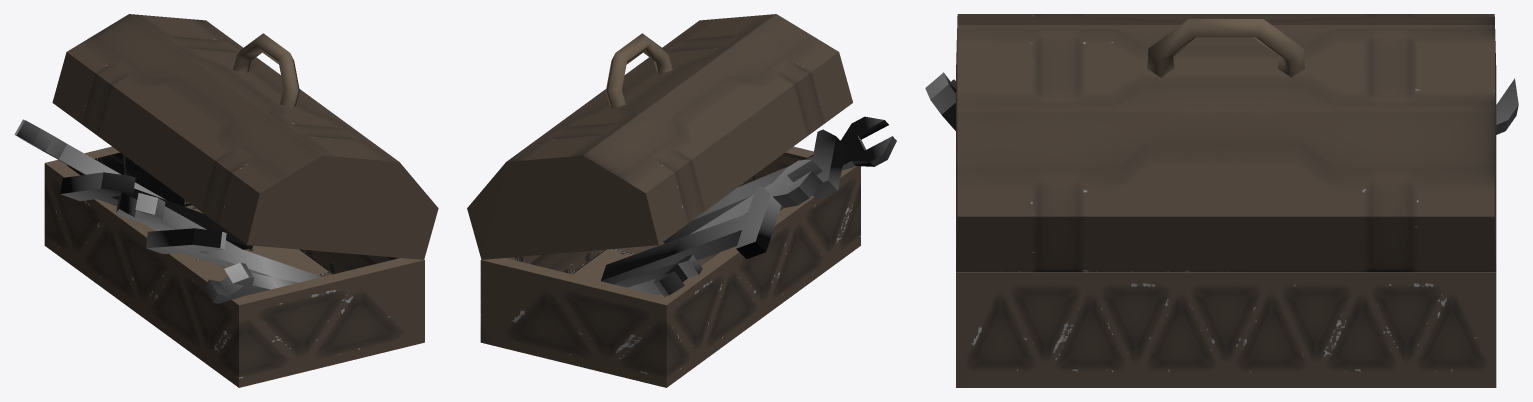
The model's file is Tool_Box.fbx.
The picture shows the model from 3 angles, left to right: view 1: azimuth 30°, elevation 25°; view 2: azimuth 150°, elevation 25°; view 3: azimuth 270°, elevation 25°; orthographic projection. The views are drawn at different scales.
Visible parts, largest first — view 1: TB_Lid, TB_Base, TB_Tools, TB_Handle; view 2: TB_Lid, TB_Base, TB_Tools, TB_Handle; view 3: TB_Lid, TB_Base, TB_Handle, TB_Tools.
Part boxes in pixels (x1,y1,x2,y2): TB_Lid: (52, 14, 438, 259); TB_Base: (44, 146, 424, 387); TB_Tools: (14, 119, 321, 303); TB_Handle: (233, 33, 299, 108); TB_Lid: (467, 14, 852, 259); TB_Base: (480, 146, 860, 387); TB_Tools: (601, 116, 896, 296); TB_Handle: (605, 33, 672, 108); TB_Lid: (956, 14, 1496, 272); TB_Base: (956, 272, 1496, 387); TB_Handle: (1147, 19, 1304, 77); TB_Tools: (925, 72, 1518, 134).
Size of the model in its own units: 1.17 by 1.11 by 1.79.
